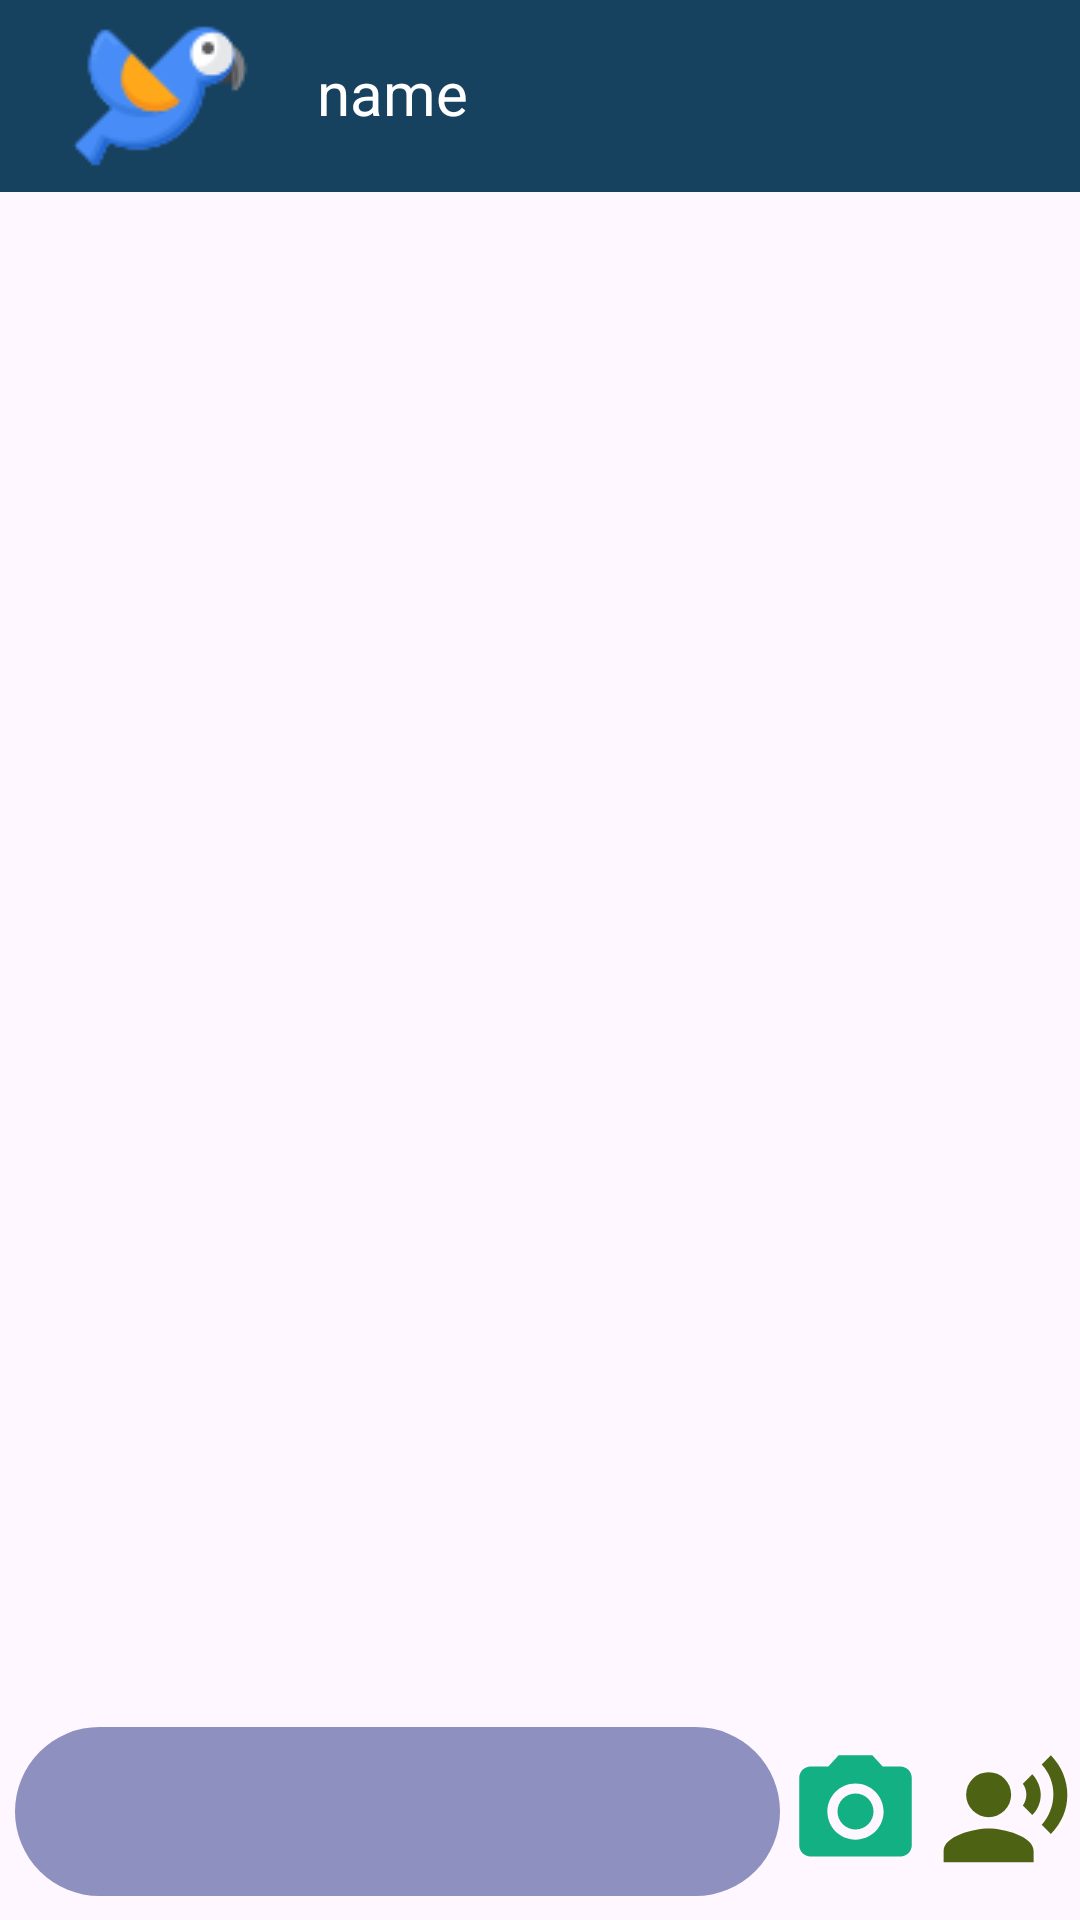

Named icons in this screenshot (1080×1920) and their centers, (x=x, y=y):
parrot: (x=161, y=96)
photo camera: (x=855, y=1806)
record voice over: (x=1005, y=1809)
